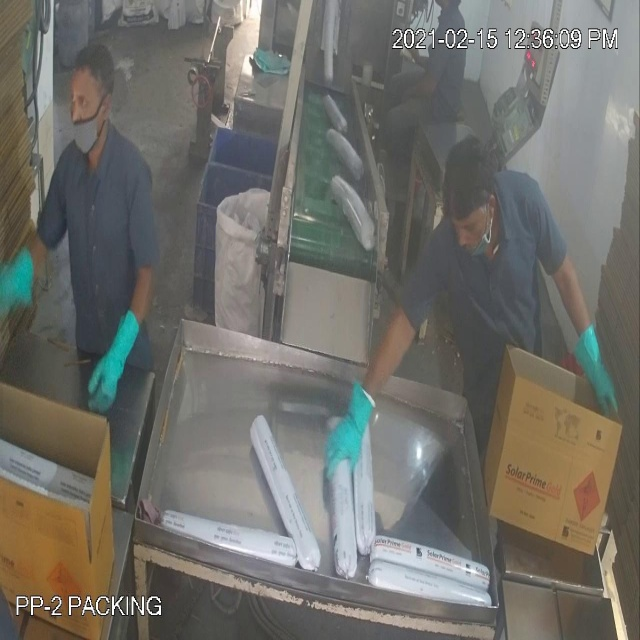Guantes: (84, 283, 153, 431), (321, 351, 383, 498), (558, 300, 624, 422)
